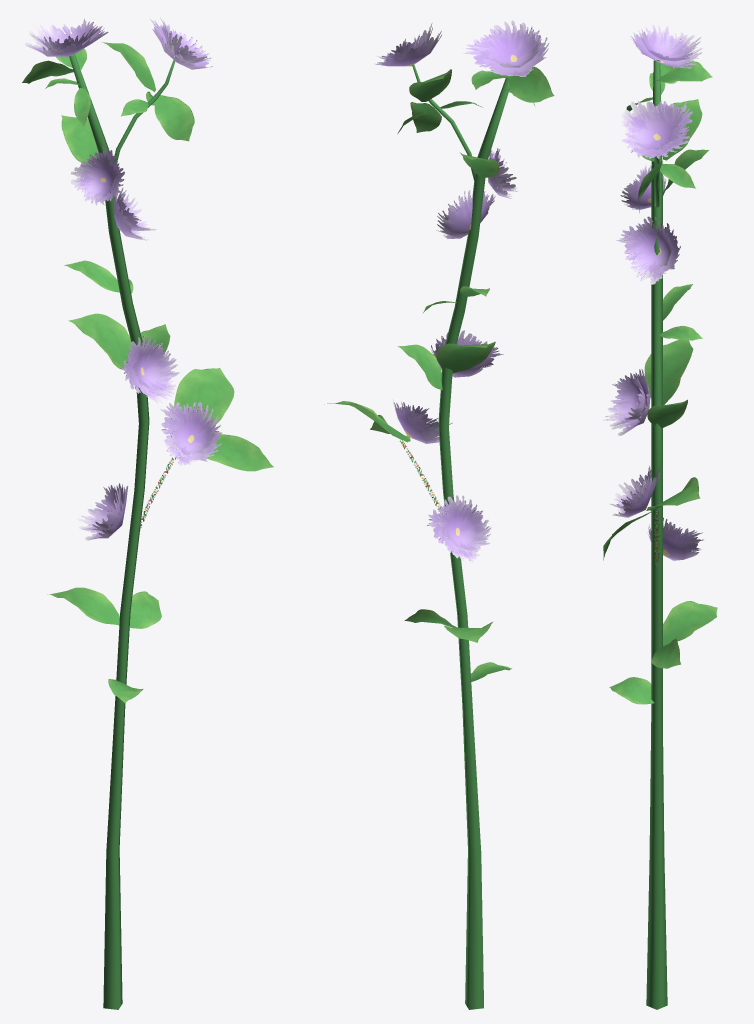
Rendered from SM_flower_tall_01.fbx.
3 renders of one model, left to right at view 1: azimuth 30°, elevation 25°; view 2: azimuth 150°, elevation 25°; view 3: azimuth 270°, elevation 25°, orthographic. The views are drawn at different scales.
Visible parts, largest first — view 1: Line020; view 2: Line020; view 3: Line020.
Boxes of the visible parts, x1,y1,x2,y2 form: Line020: (22, 18, 273, 1009); Line020: (324, 20, 554, 1009); Line020: (603, 24, 717, 1009).
Bounding box in the file's own units: 17.47 × 68.51 × 9.56.
